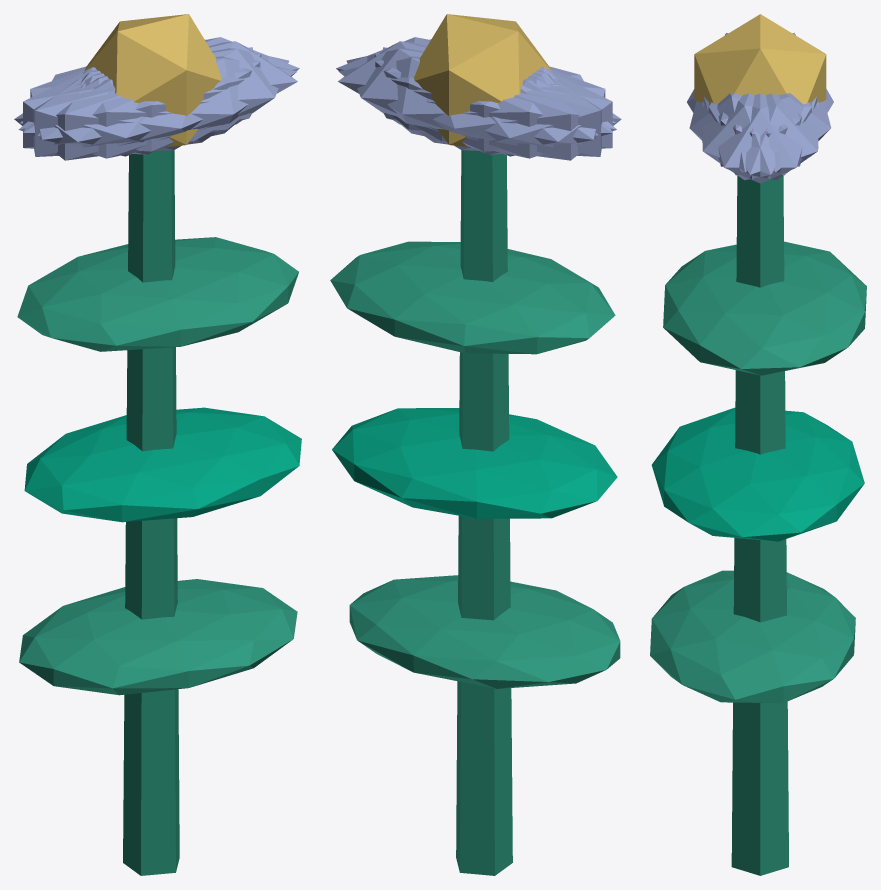
The model's file is gnetum-gnemon.glb.
3 renders of one model, left to right at view 1: azimuth 30°, elevation 25°; view 2: azimuth 150°, elevation 25°; view 3: azimuth 270°, elevation 25°, orthographic.
Visible parts, largest first — view 1: stem, leaf0, leaf1, leaf2, center, petal1, petal6, petal2, petal5, petal7, petal0, petal4 (+2 smaller); view 2: stem, leaf2, leaf1, leaf0, center, petal8, petal3, petal7, petal4, petal2, petal0, petal5 (+2 smaller); view 3: stem, leaf1, leaf2, leaf0, center, petal0, petal4, petal5, petal1, petal8.
Boxes of the visible parts, x1,y1,x2,y2 form: stem: [123, 150, 179, 875]; leaf0: [19, 579, 297, 695]; leaf1: [24, 407, 301, 522]; leaf2: [17, 237, 298, 351]; center: [84, 14, 221, 147]; petal1: [18, 56, 296, 158]; petal6: [14, 68, 215, 160]; petal2: [33, 47, 252, 156]; petal5: [37, 48, 288, 151]; petal7: [23, 53, 261, 154]; petal0: [84, 41, 297, 141]; petal4: [20, 37, 299, 133]; stem: [456, 150, 512, 875]; leaf2: [330, 241, 615, 354]; leaf1: [332, 408, 617, 518]; leaf0: [349, 575, 620, 688]; center: [414, 14, 551, 147]; petal8: [338, 56, 616, 158]; petal3: [419, 68, 621, 160]; petal7: [382, 47, 601, 156]; petal4: [346, 48, 598, 151]; petal2: [374, 53, 612, 154]; petal0: [338, 41, 551, 141]; petal5: [336, 37, 615, 133]; stem: [731, 175, 788, 875]; leaf1: [651, 407, 864, 541]; leaf2: [663, 241, 866, 375]; leaf0: [650, 570, 855, 703]; center: [694, 14, 826, 104]; petal0: [703, 93, 816, 183]; petal4: [708, 93, 818, 180]; petal5: [702, 93, 811, 180]; petal1: [689, 93, 801, 172]; petal8: [718, 93, 831, 172].
Bounding box in the file's own units: 0.1452 × 0.4259 × 0.1007.
